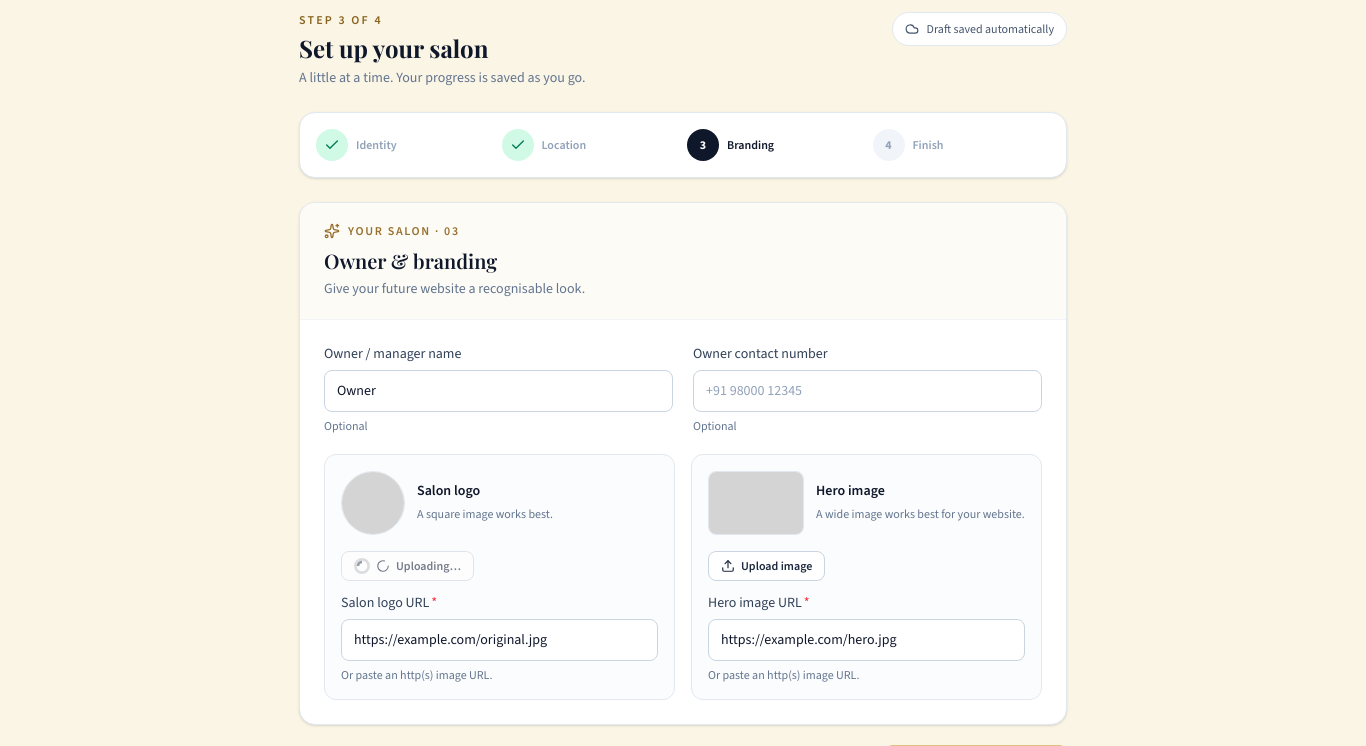
salon onboarding wizard › ignores an old upload after a same-step draft replacement and accepts a new one
Earlier steps of the test are not shown.
Later steps or results of the test are not shown.
Expected: the heading "Owner & branding" is shown, [324,247,497,274]
Replace the text in the field labelled "Owner / manager name" with "Unsynced owner": (498, 391) [324,370,673,412]
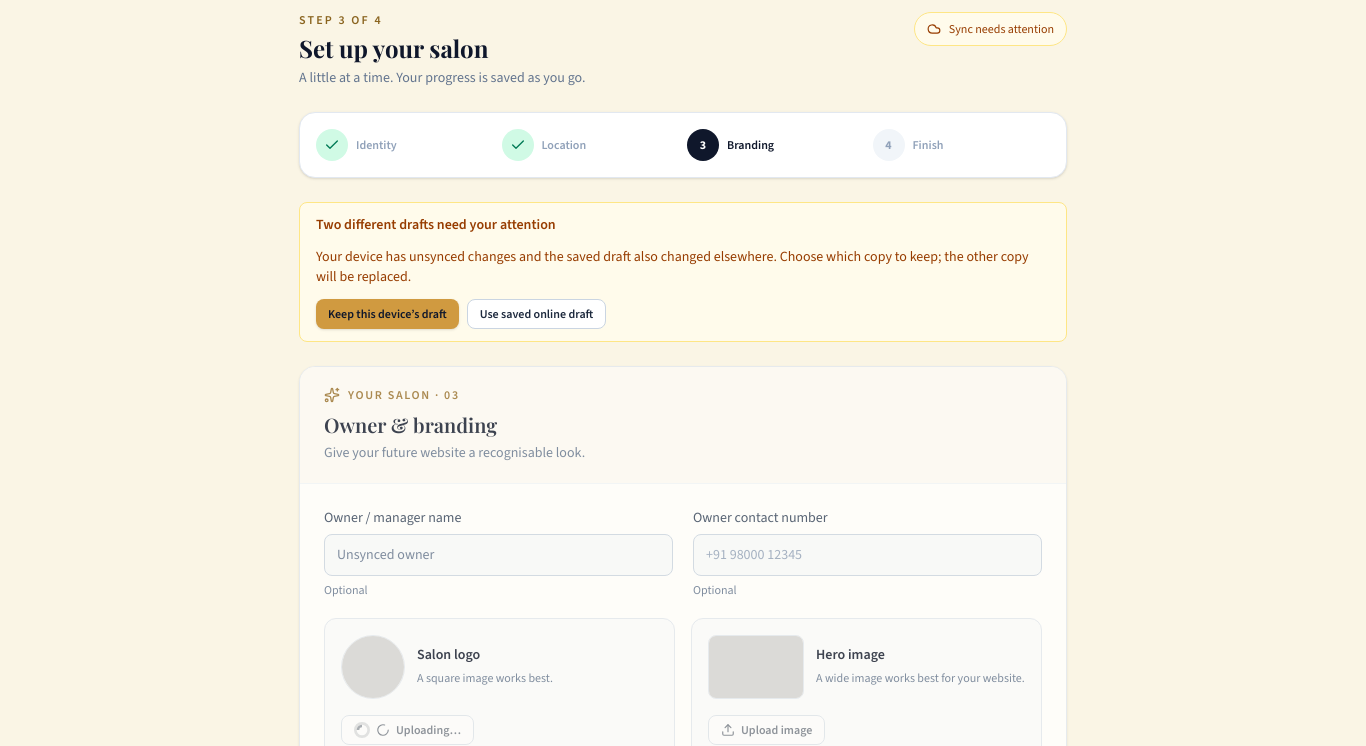
Expected: the text "Two different drafts need your attention" is shown, [316,215,556,234]
Click the button "Use saved online draft": (536, 314) [467,299,606,329]
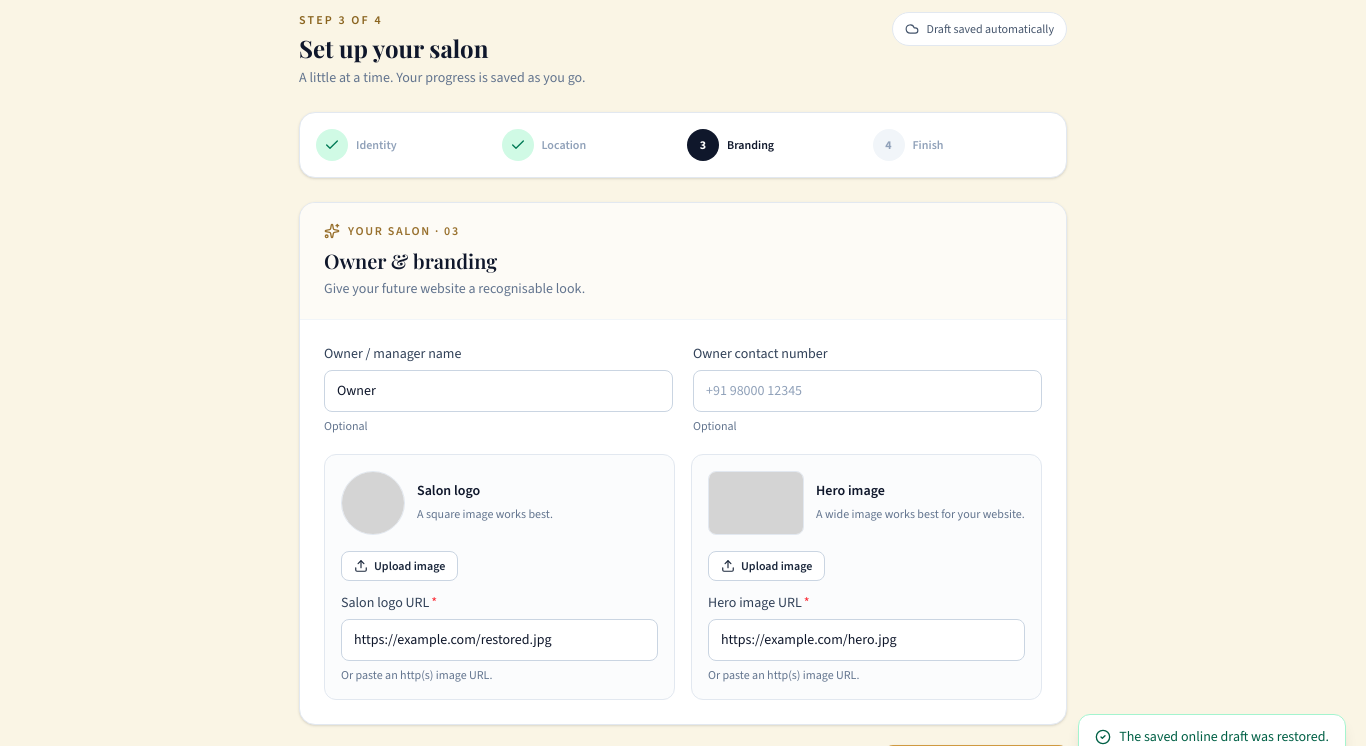
Expected: the field labelled "Salon logo URL" holds "https://example.com/restored.jpg", [341,619,658,661]
